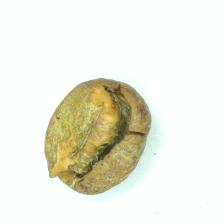NG: (46, 80, 131, 183)
